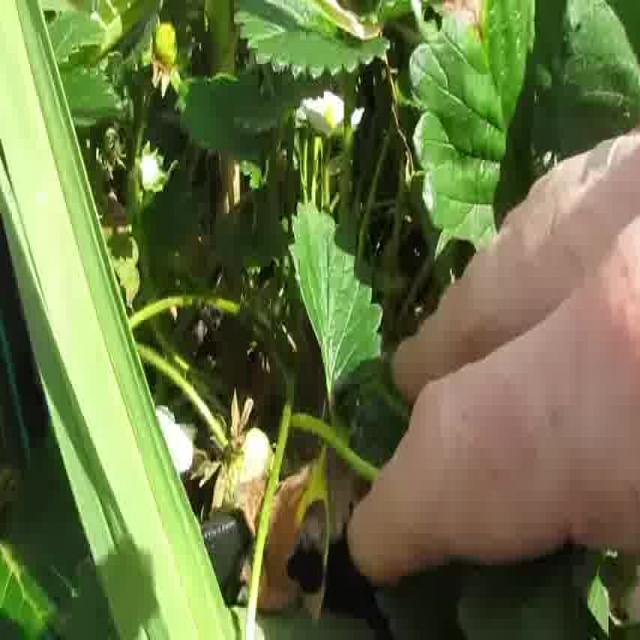Moho gris: (200, 420, 315, 610)
